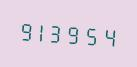five: (86, 21, 102, 49)
four: (103, 22, 119, 50)
nine: (17, 16, 33, 44), (69, 20, 85, 48)
one: (34, 17, 50, 45)
three: (52, 18, 68, 46)
